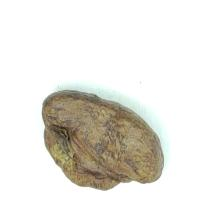NG: (43, 107, 150, 191)
